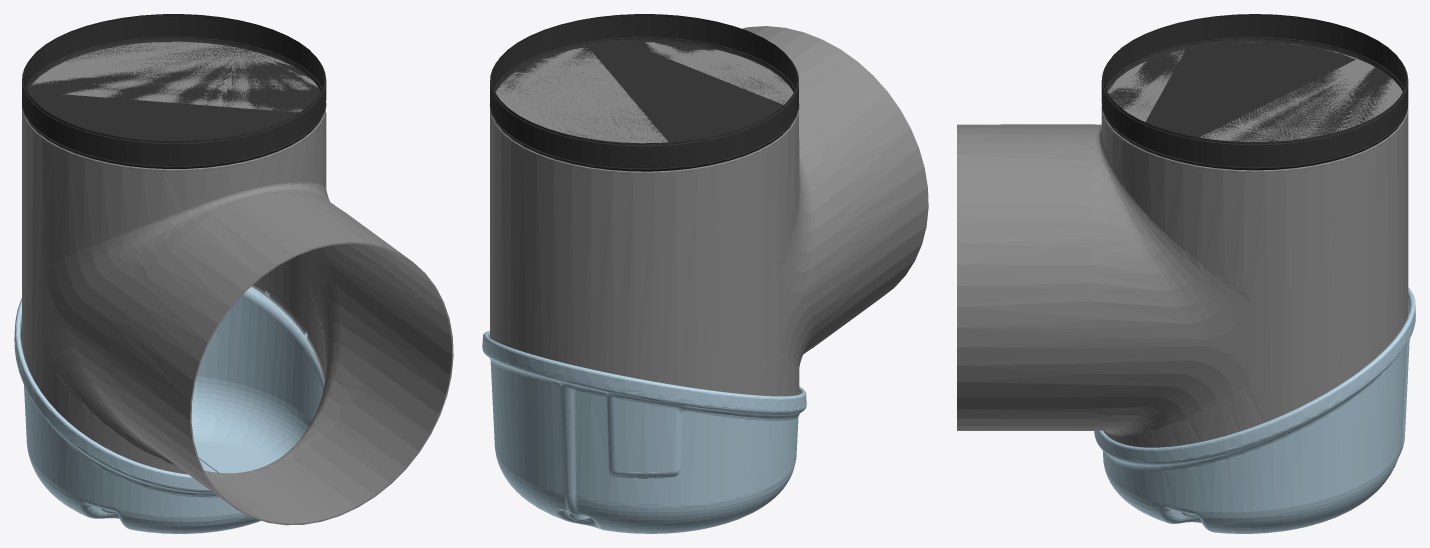
Rendered from wrist1.dae.
The picture shows the model from 3 angles, left to right: view 1: azimuth 30°, elevation 25°; view 2: azimuth 150°, elevation 25°; view 3: azimuth 270°, elevation 25°; orthographic projection.
Parts seen in each view (by area): view 1: eSeries_UR5e_043, eSeries_UR5e_027, eSeries_UR5e_026; view 2: eSeries_UR5e_043, eSeries_UR5e_026, eSeries_UR5e_027; view 3: eSeries_UR5e_043, eSeries_UR5e_027, eSeries_UR5e_026.
Part boxes in pixels (x1,y1,x2,y2): eSeries_UR5e_043: [20, 41, 453, 525]; eSeries_UR5e_027: [22, 14, 326, 168]; eSeries_UR5e_026: [14, 286, 324, 533]; eSeries_UR5e_043: [489, 26, 928, 396]; eSeries_UR5e_026: [482, 330, 806, 533]; eSeries_UR5e_027: [489, 14, 799, 171]; eSeries_UR5e_043: [957, 42, 1409, 447]; eSeries_UR5e_027: [1101, 14, 1408, 170]; eSeries_UR5e_026: [1094, 287, 1415, 533].
Bounding box in the file's own units: 0.0787 × 0.1122 × 0.1099.
